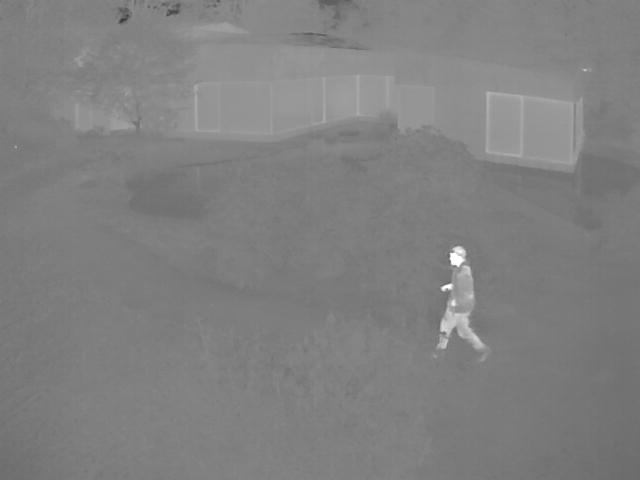person: (430, 246, 489, 362)
